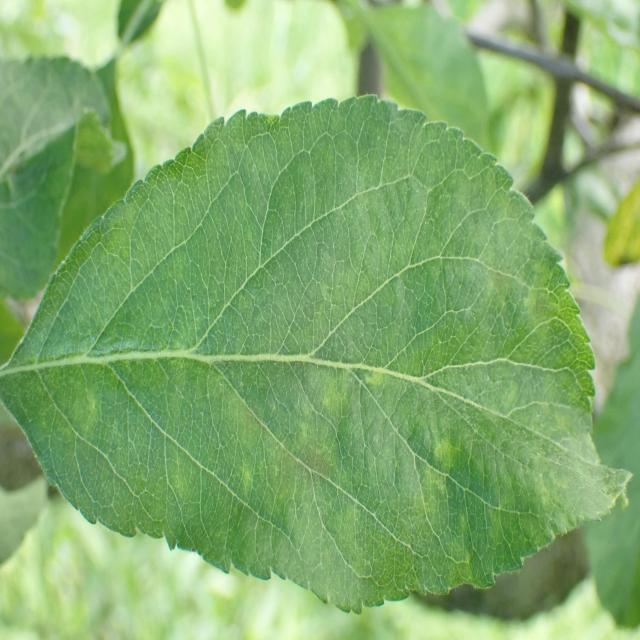scab: (10, 213, 599, 578)
